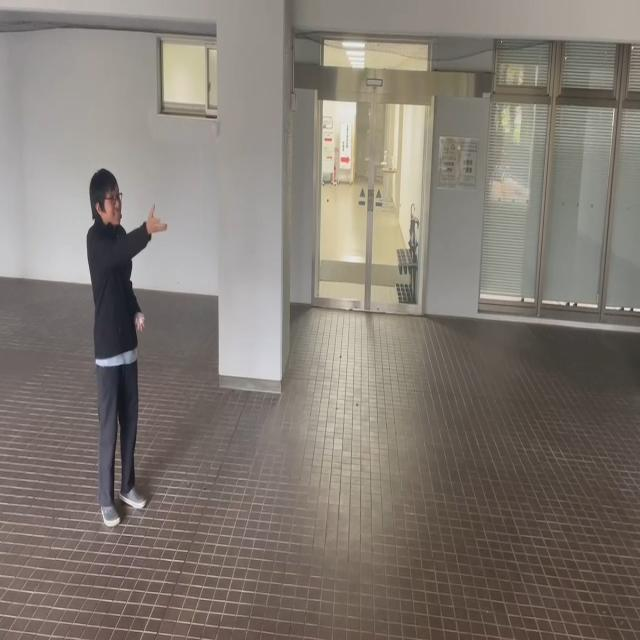paper: (208, 122, 221, 142), (138, 316, 145, 324)
